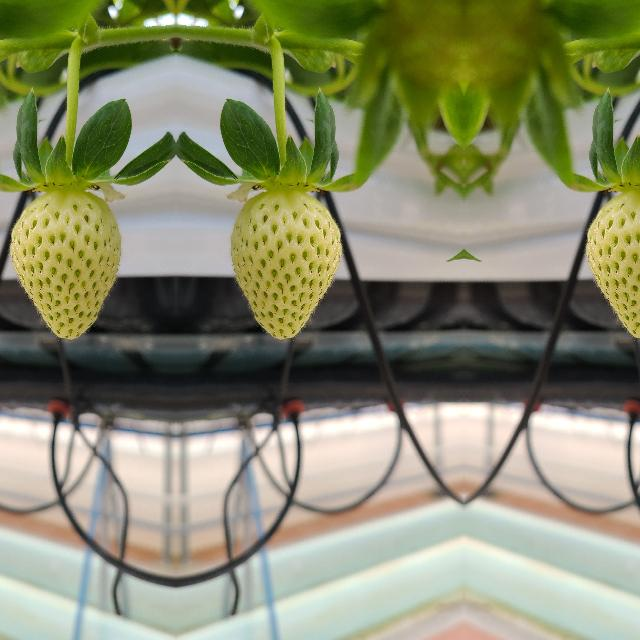Health_25: (230, 192, 340, 338), (10, 192, 120, 338), (585, 191, 640, 338)
